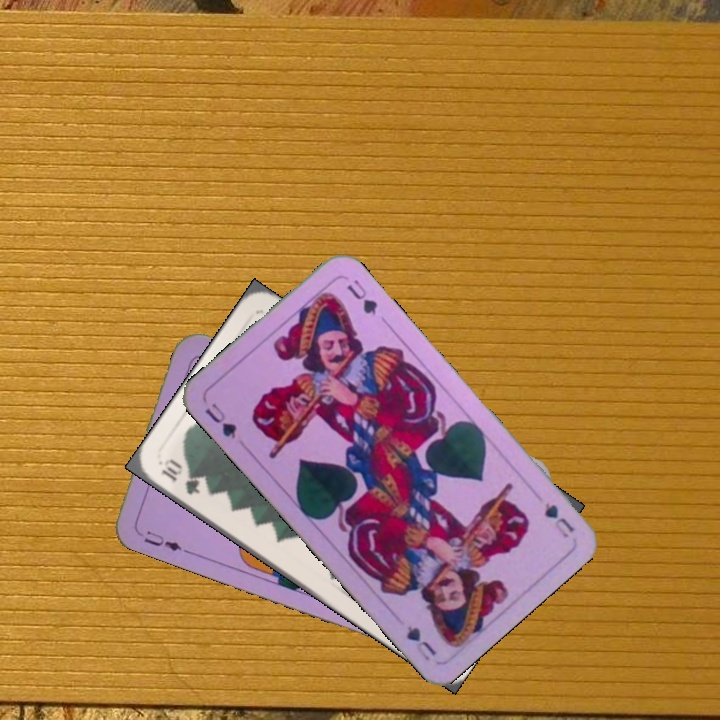EU: (132, 525, 189, 555)
G10: (157, 455, 203, 498)
GU: (200, 399, 240, 442), (540, 498, 577, 541)
